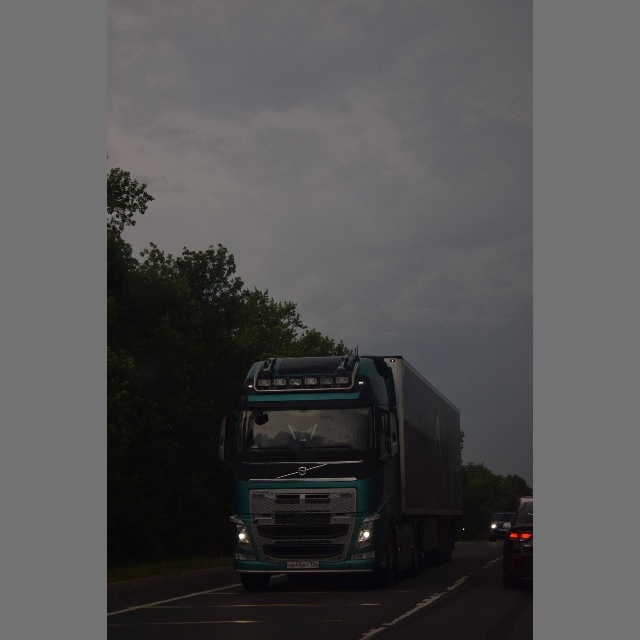Грузовик: (227, 357, 462, 579)
